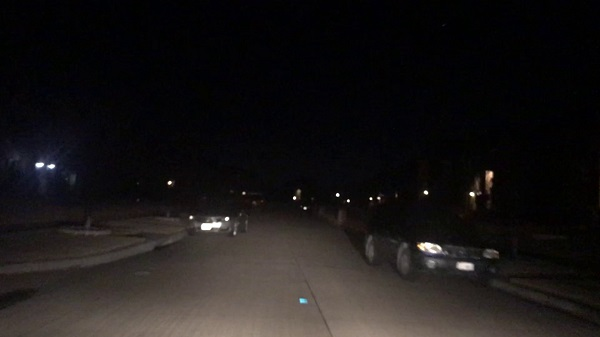car: (362, 199, 503, 284), (184, 197, 251, 236)
